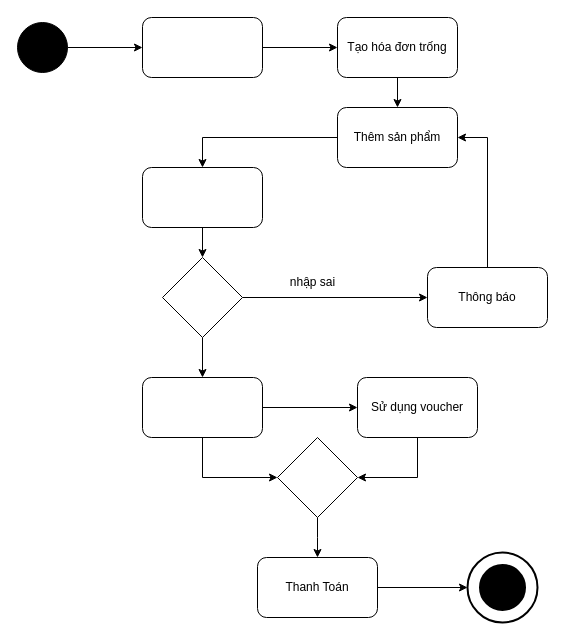
Some shapes in this 565 by 641 pixel diagram are drawn without their labels. The centre of each missing label's shape, as x and y in pixels:
Nhập số lượng: (202,197)
Trang bán hàng: (202,47)
Tổng tiền: (202,407)
